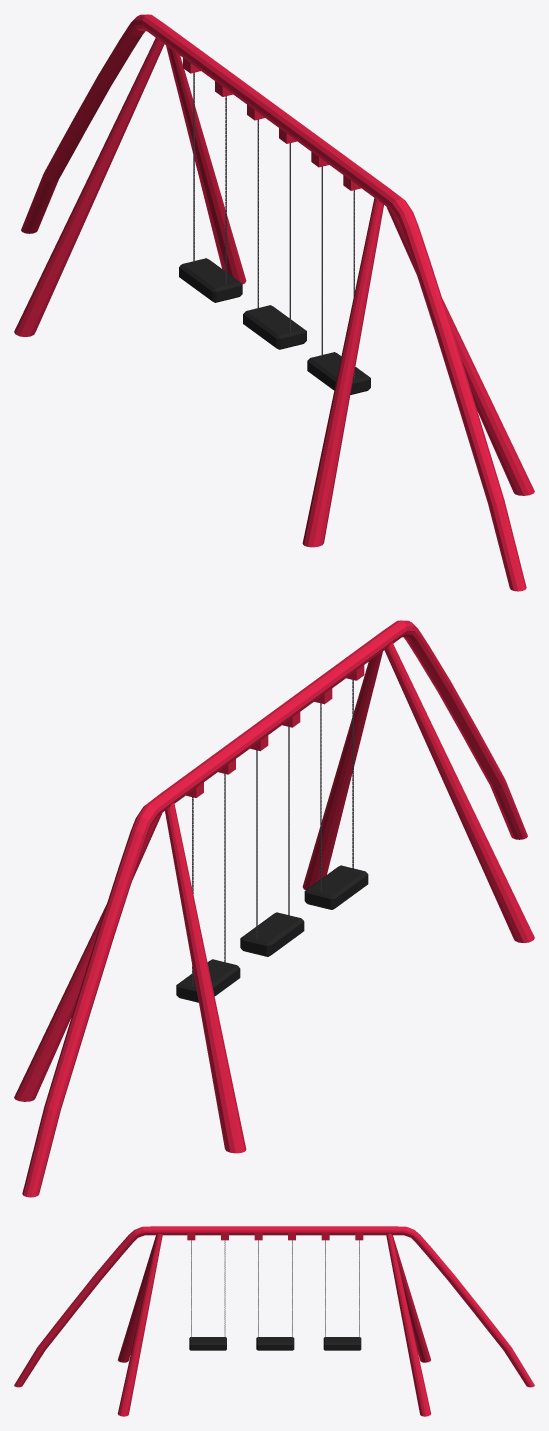
File: swings.fbx
3 views of the same model, one above another, from view 1: azimuth 30°, elevation 25°; view 2: azimuth 150°, elevation 25°; view 3: azimuth 270°, elevation 25° (orthographic). The views are drawn at different scales.
Visible parts, largest first — view 1: Swingers, Cube.005, Cube.004, Cube.003, swinger.002, swinger.001; view 2: Swingers, Cube.004, Cube.003, Cube.005, swinger.001, swinger; view 3: Swingers, Cube.005, Cube.004, Cube.003, swinger.
Part boxes in pixels (box(x1,y1,x2,y2)): Swingers: box(14, 14, 534, 591); Cube.005: box(179, 258, 242, 302); Cube.004: box(243, 305, 306, 349); Cube.003: box(307, 352, 370, 394); swinger.002: box(193, 72, 226, 285); swinger.001: box(257, 119, 290, 331); Swingers: box(14, 620, 534, 1197); Cube.004: box(240, 912, 304, 956); Cube.003: box(304, 865, 368, 909); Cube.005: box(176, 959, 240, 1002); swinger.001: box(256, 727, 289, 939); swinger: box(320, 680, 353, 892); Swingers: box(14, 1226, 534, 1416); Cube.005: box(323, 1337, 361, 1350); Cube.004: box(256, 1337, 294, 1350); Cube.003: box(189, 1337, 226, 1350); swinger: box(191, 1240, 225, 1339).
Size of the model in its own units: 827 by 1055 by 3102.
